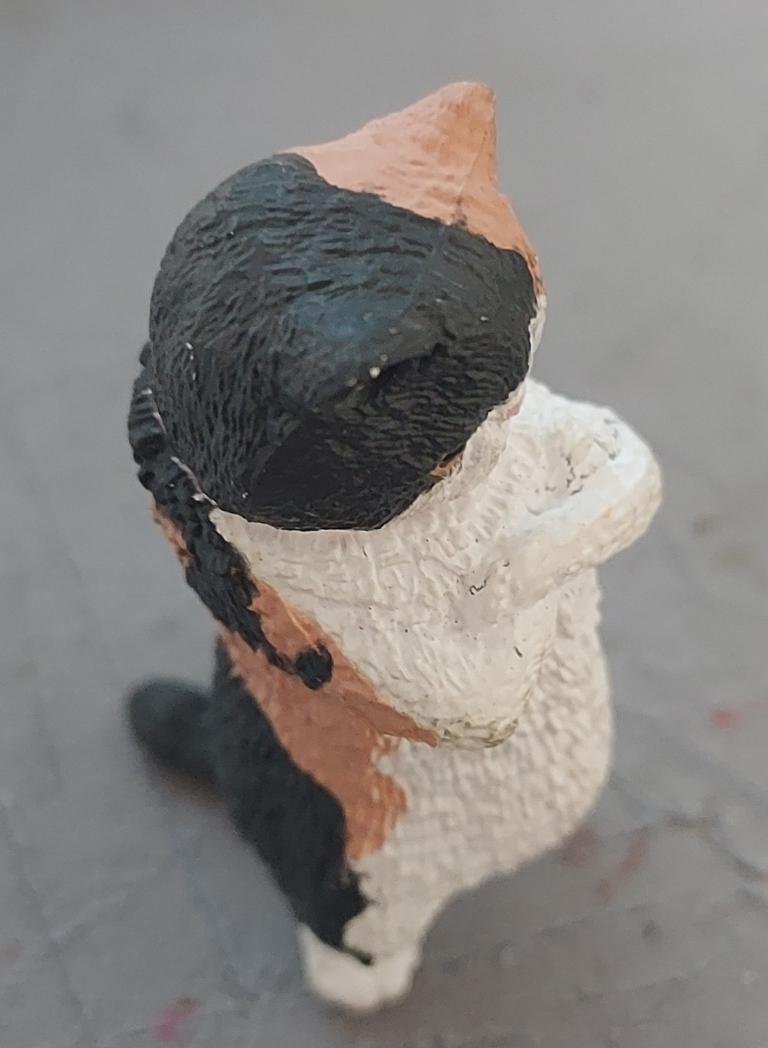cat: (1, 0, 768, 1048)
